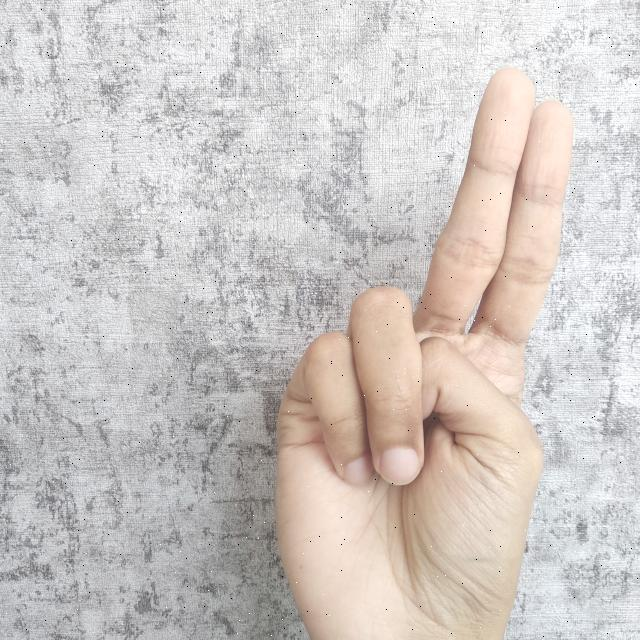U: (265, 59, 579, 640)
